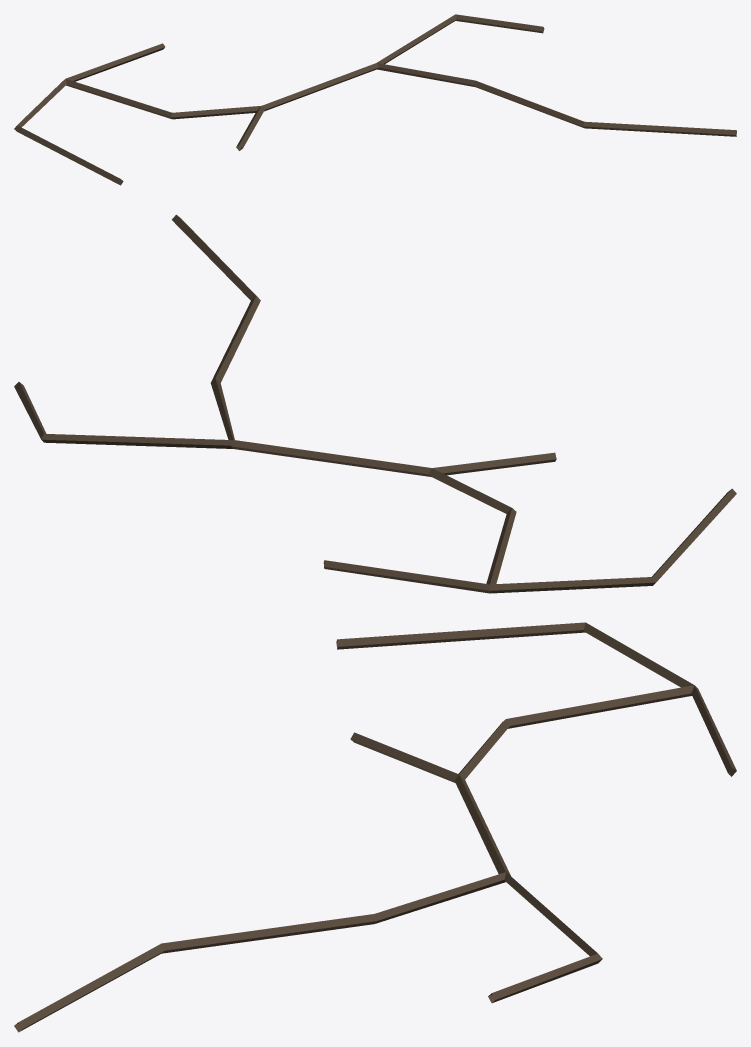
The model's file is SM_Envr_Nature_Plant_Root_01.fbx.
3 views of the same model, one above another, from view 1: azimuth 30°, elevation 25°; view 2: azimuth 150°, elevation 25°; view 3: azimuth 270°, elevation 25° (orthographic). The views are drawn at different scales.
Visible parts, largest first — view 1: SM_Envr_Nature_Plant_Root_01; view 2: SM_Envr_Nature_Plant_Root_01; view 3: SM_Envr_Nature_Plant_Root_01.
Part boxes in pixels (x1=…): SM_Envr_Nature_Plant_Root_01: x1=14, y1=14, x2=736, y2=185; SM_Envr_Nature_Plant_Root_01: x1=14, y1=214, x2=736, y2=593; SM_Envr_Nature_Plant_Root_01: x1=14, y1=622, x2=736, y2=1032.
Size of the model in its own units: 175 by 2.08 by 133.
